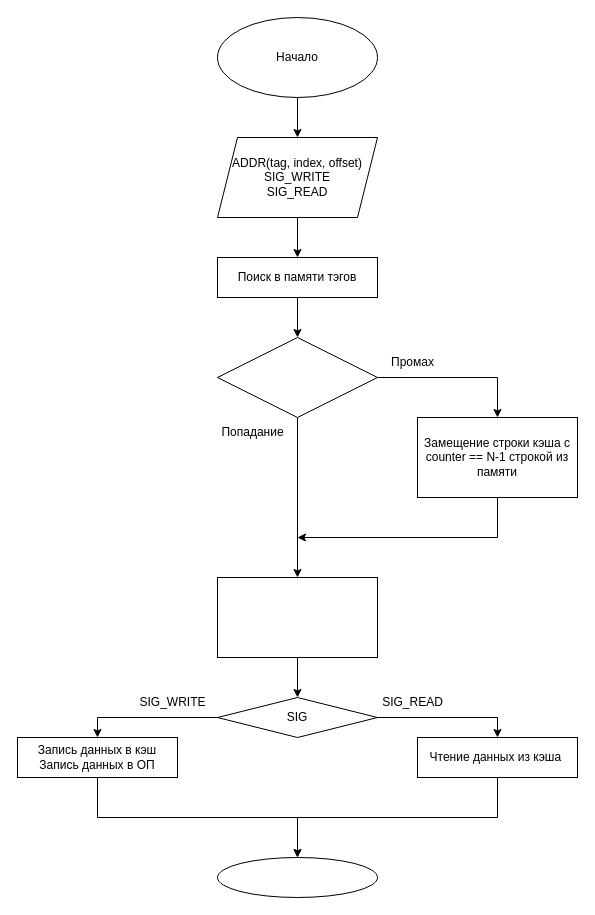
Image size: 595x915. Some labels were removed from this diagram. Each missing label, with the centre of its shape:
Cache: the point at 297,377
Все counter < Текущий counter += 1 Текущий counter = 0: the point at 297,617
Конец: the point at 297,877
